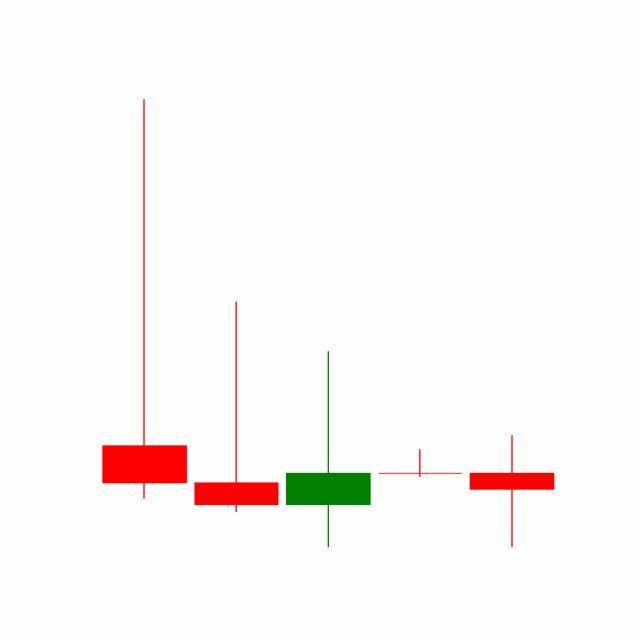Spinning Top: (374, 449, 468, 478)
